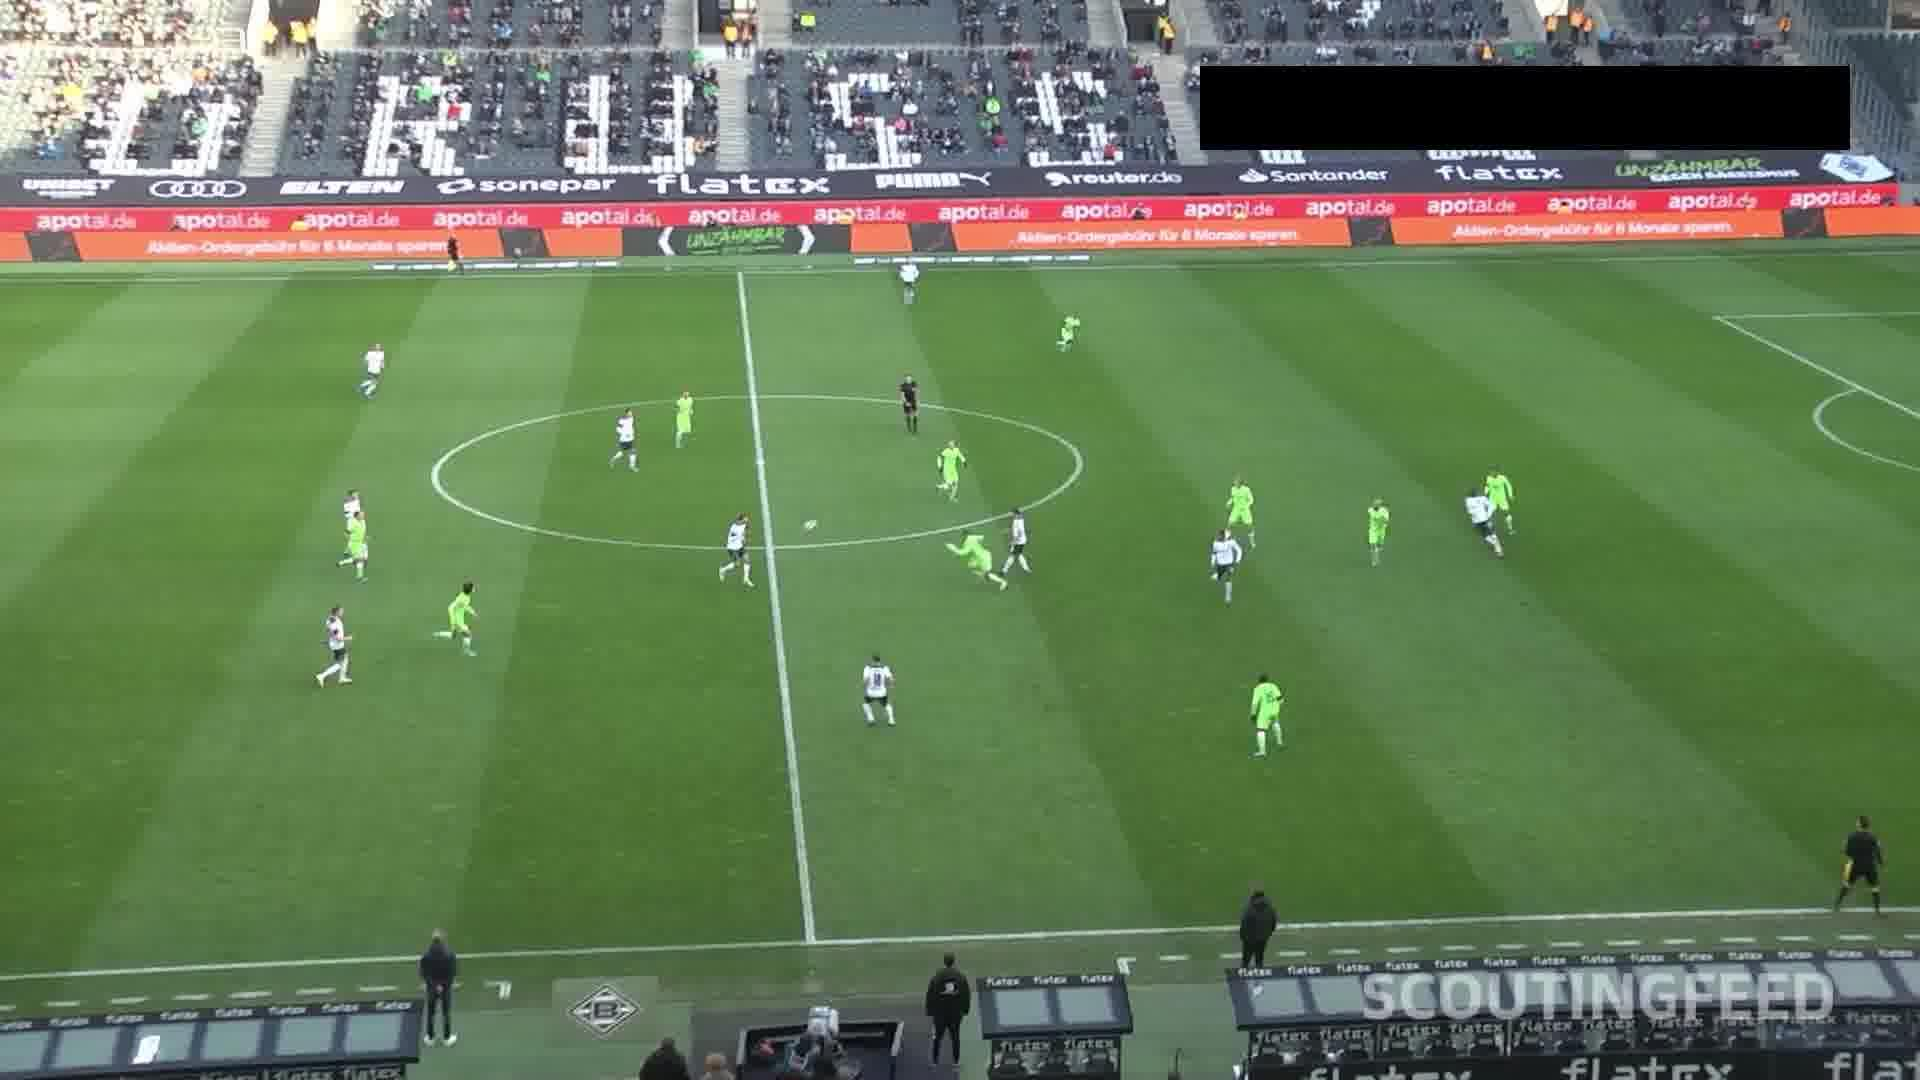football: (802, 520, 818, 534)
